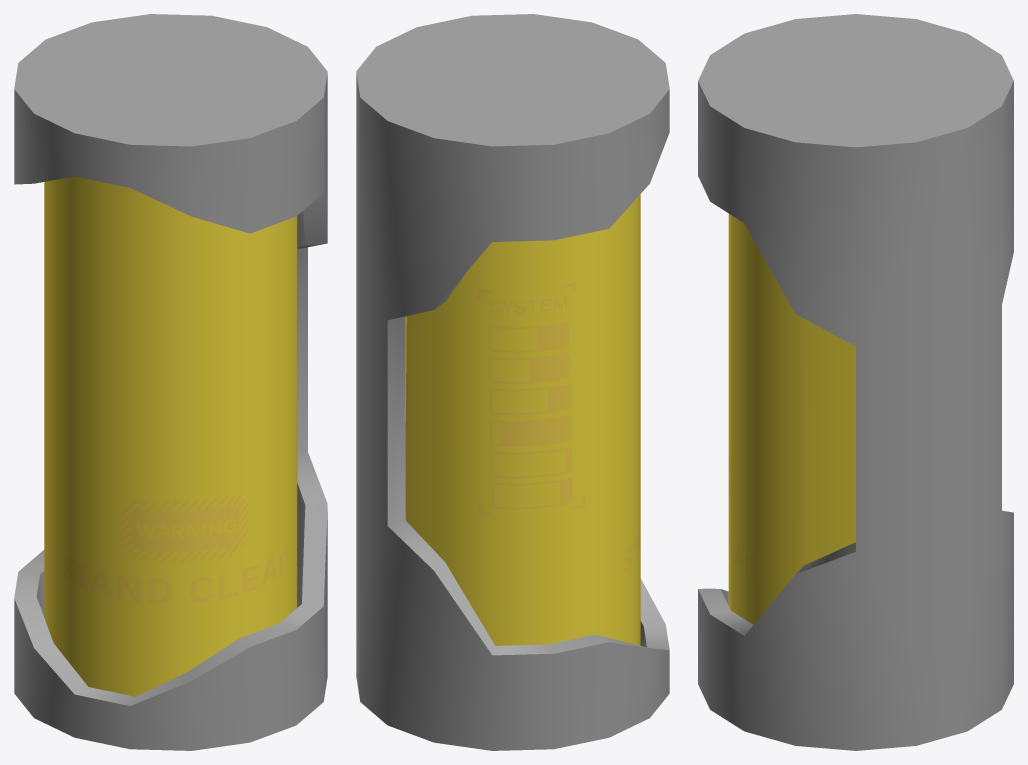
Rendered from robo_tube.fbx.
The picture shows the model from 3 angles, left to right: view 1: azimuth 30°, elevation 25°; view 2: azimuth 150°, elevation 25°; view 3: azimuth 270°, elevation 25°; orthographic projection.
Visible parts, largest first — view 1: pCylinder50; view 2: pCylinder50; view 3: pCylinder50.
Part boxes in pixels (x1,y1,x2,y2): pCylinder50: (14, 14, 327, 750); pCylinder50: (356, 14, 669, 750); pCylinder50: (698, 14, 1013, 750).
Size of the model in its own units: 120 by 253 by 120.
